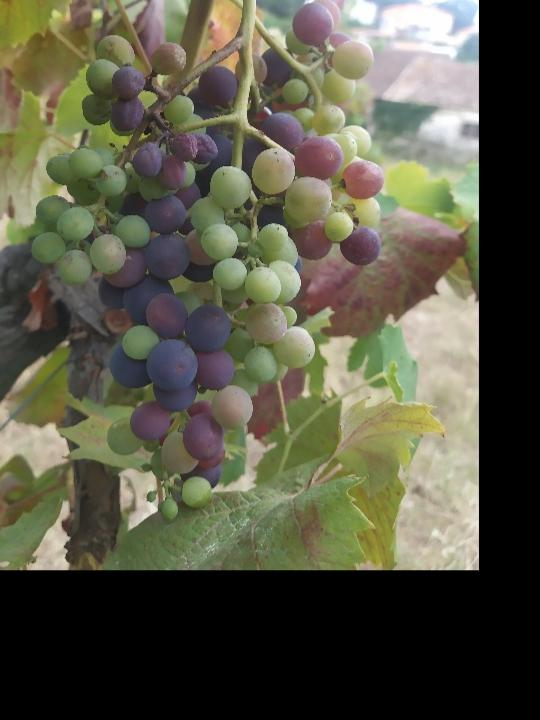grape: (25, 0, 387, 524)
